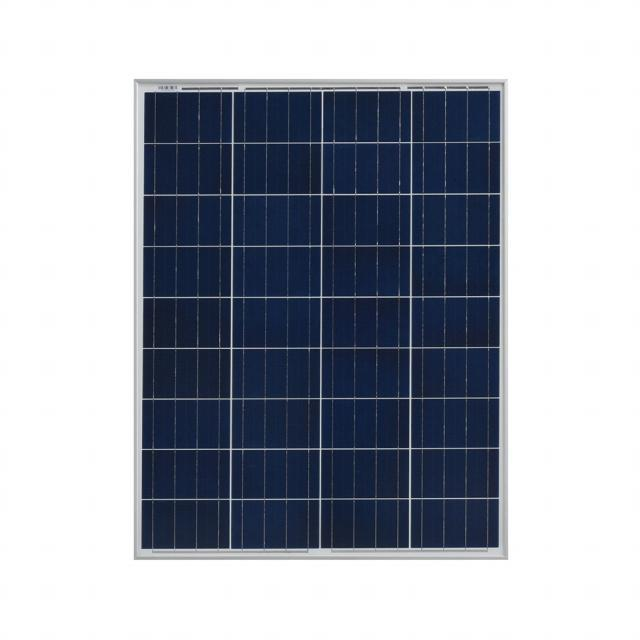no faulty: (132, 81, 510, 561)
